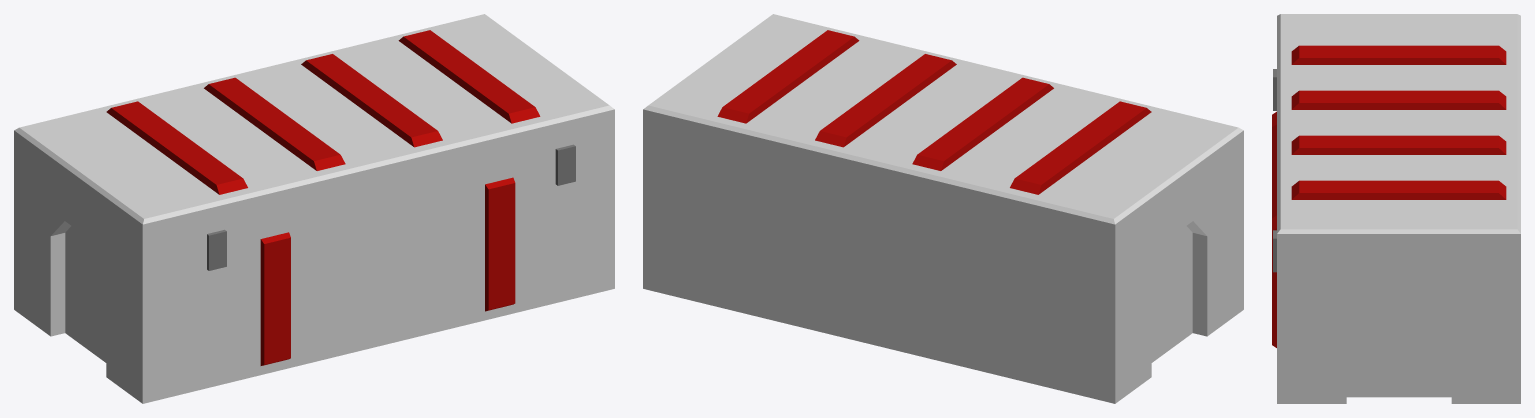
The model's file is SupplyBox.fbx.
3 renders of one model, left to right at view 1: azimuth 30°, elevation 25°; view 2: azimuth 150°, elevation 25°; view 3: azimuth 270°, elevation 25°, orthographic. The views are drawn at different scales.
Parts seen in each view (by area): view 1: Supply_box; view 2: Supply_box; view 3: Supply_box.
Boxes of the visible parts, x1,y1,x2,y2 form: Supply_box: (14,14,614,403); Supply_box: (643,14,1243,403); Supply_box: (1272,14,1520,403).
Size of the model in its own units: 3.51 by 1.35 by 1.69.
